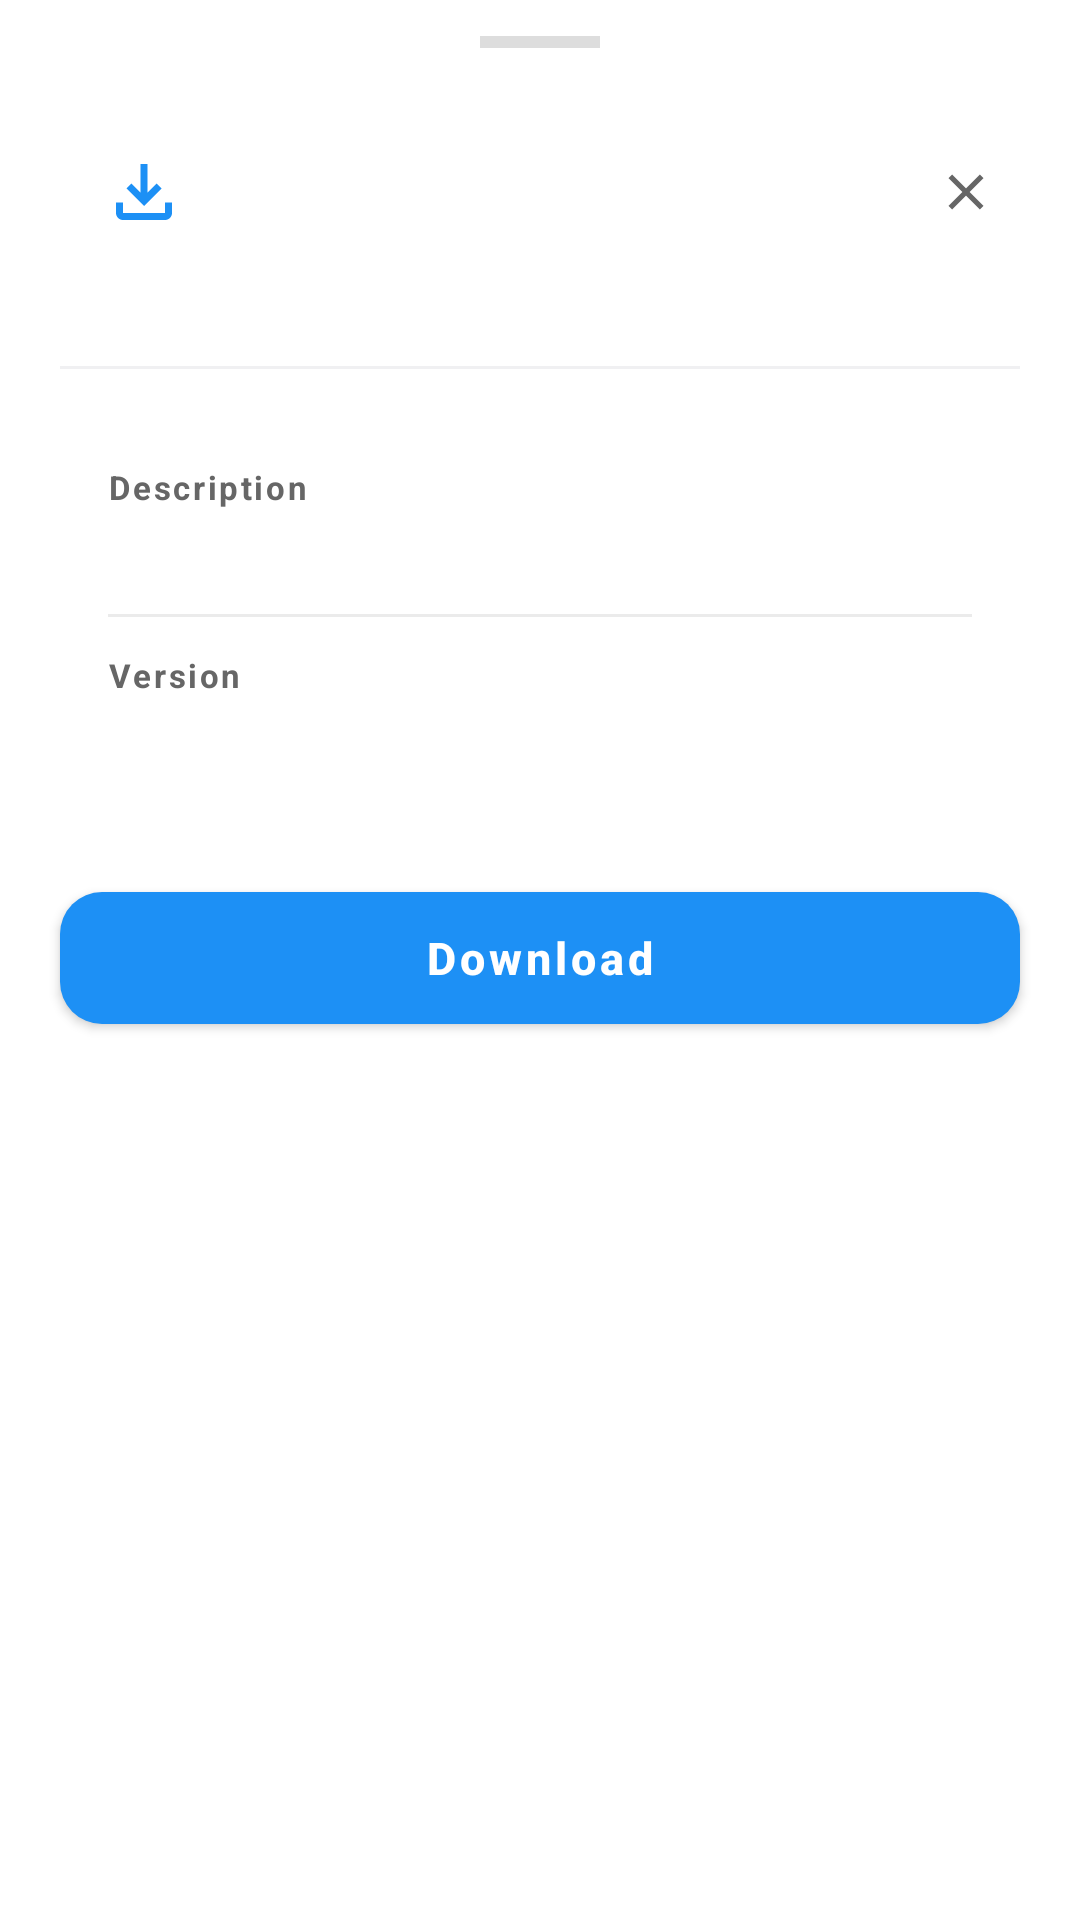

Icons on this 1080x1920 Android screen, each with the point to tap as point (x, y):
close: point (966, 192)
download border: point (144, 192)
